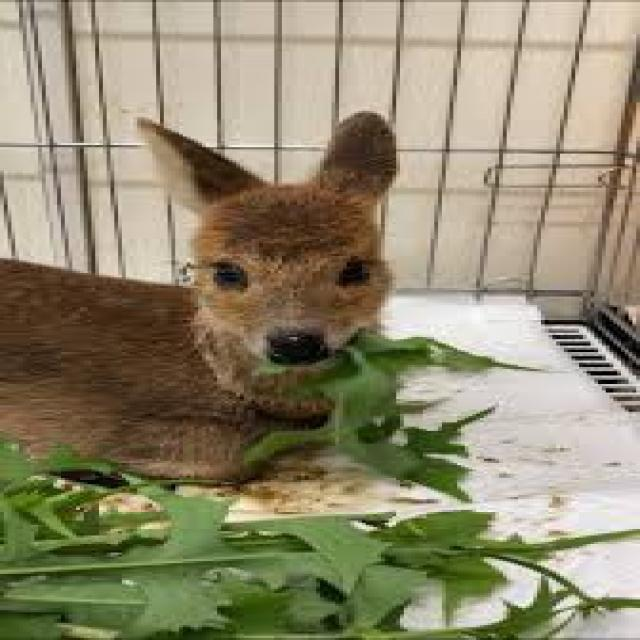elk: (0, 70, 472, 535)
